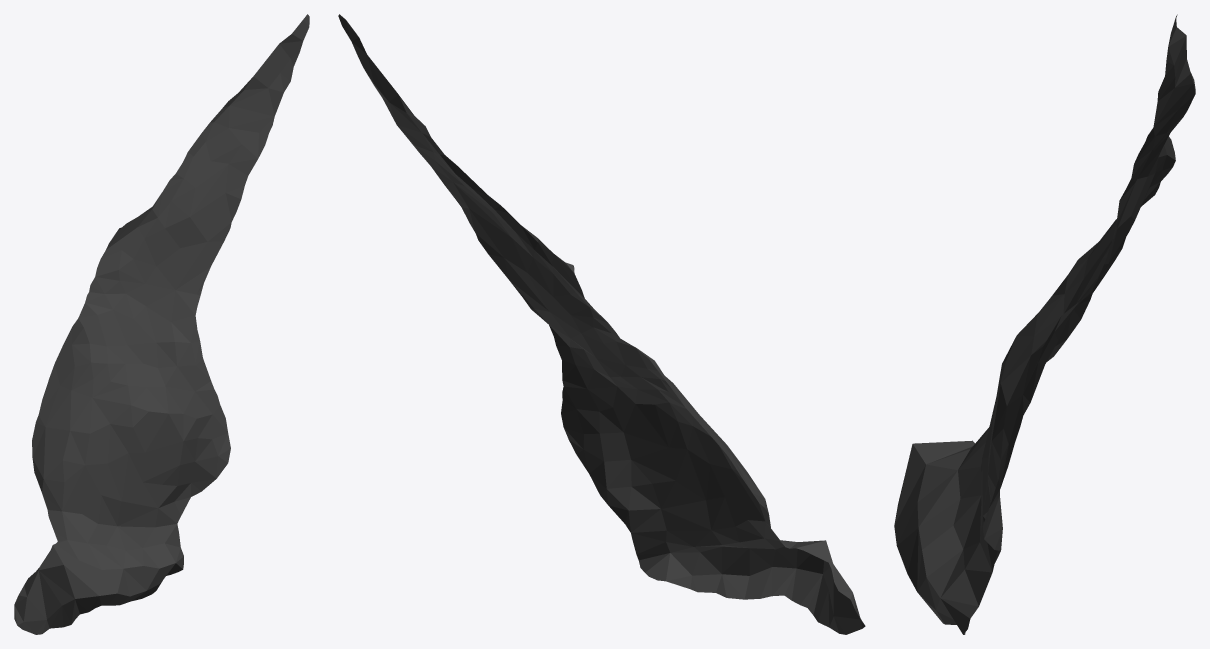
File: M_semitendinosus_M_semitendinosus.glb
3 views of the same model, side by side, from view 1: azimuth 30°, elevation 25°; view 2: azimuth 150°, elevation 25°; view 3: azimuth 270°, elevation 25° (orthographic). The views are drawn at different scales.
Visible parts, largest first — view 1: M_semitendinosus_M_semitendinosus; view 2: M_semitendinosus_M_semitendinosus; view 3: M_semitendinosus_M_semitendinosus.
Part boxes in pixels (x1,y1,x2,y2): M_semitendinosus_M_semitendinosus: (14,14,309,634); M_semitendinosus_M_semitendinosus: (338,14,865,634); M_semitendinosus_M_semitendinosus: (894,14,1195,634).
Size of the model in its own units: 0.0289 by 0.0367 by 0.0124.
Materials: 1 (1 with a texture image).
